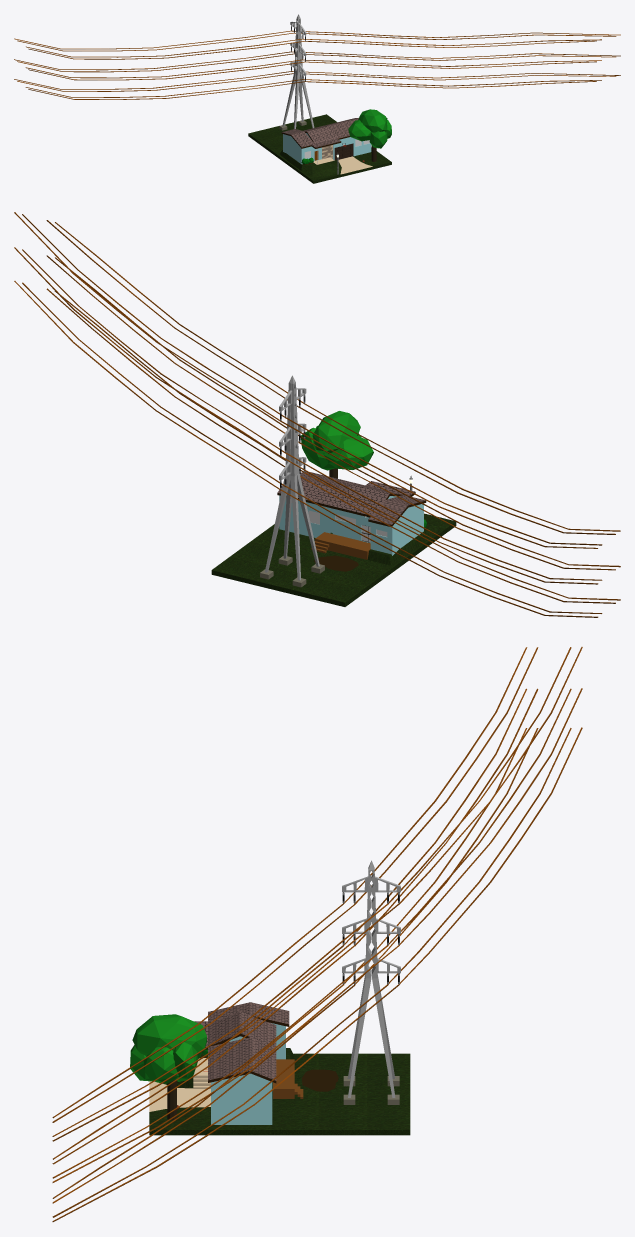
Rendered from Orson.glb.
The picture shows the model from 3 angles, top to bottom: view 1: azimuth 30°, elevation 25°; view 2: azimuth 150°, elevation 25°; view 3: azimuth 270°, elevation 25°; orthographic projection. The views are drawn at different scales.
Parts seen in each view (by area): view 1: Wires, Ground, Tower, Roof, Leaves, Ext Walls, Garage Door; view 2: Wires, Ground, Tower, Roof, Ext Walls, Leaves, Deck; view 3: Wires, Ground, Roof, Tower, Leaves, Ext Walls.
Boxes of the visible parts, x1,y1,x2,y2 form: Wires: (14,30,620,99); Ground: (248,114,391,183); Tower: (282,14,314,128); Roof: (281,118,358,148); Leaves: (348,109,391,148); Ext Walls: (283,134,371,164); Garage Door: (334,143,353,160); Wires: (14,212,620,617); Ground: (211,513,456,606); Tower: (265,375,319,580); Roof: (277,471,426,526); Ext Walls: (279,495,423,555); Leaves: (301,411,373,470); Deck: (315,532,370,559); Wires: (52,647,582,1221); Ground: (149,1048,410,1135); Roof: (194,1002,289,1083); Tower: (342,860,400,1097); Leaves: (130,1014,206,1083); Ext Walls: (211,1025,285,1124).
Size of the model in its own units: 113 by 27.37 by 54.87.
33 materials, 2 textured.
